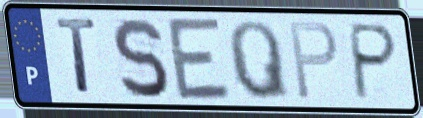E: (164, 15, 235, 103)
P: (287, 19, 341, 102), (348, 20, 401, 103)
Q: (226, 17, 293, 102)
S: (109, 15, 172, 101)
T: (53, 16, 100, 98)
